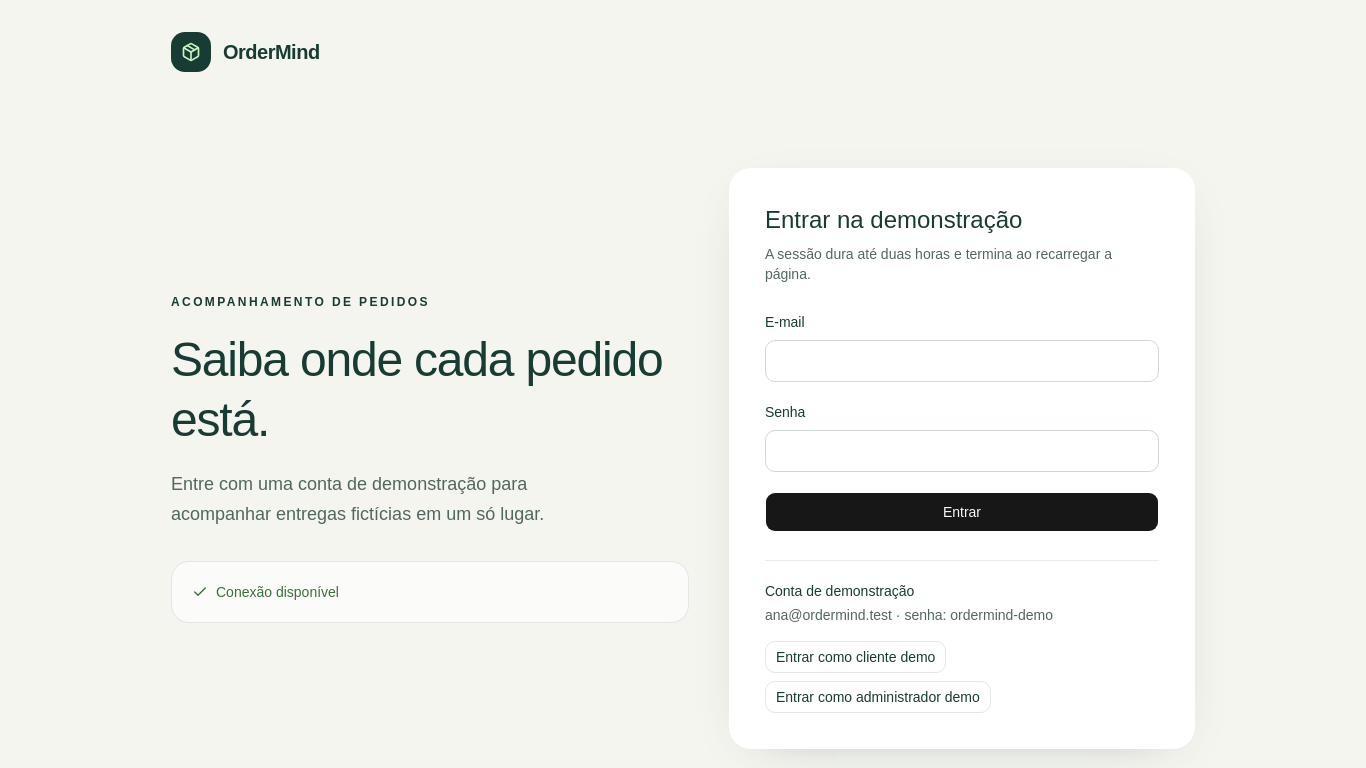
App › logs in through the customer demonstration action
This screenshot has width=1366, height=768.
Click the button "Entrar como cliente demo" at (856, 657), box [765,641,946,673]
(page scrolled)
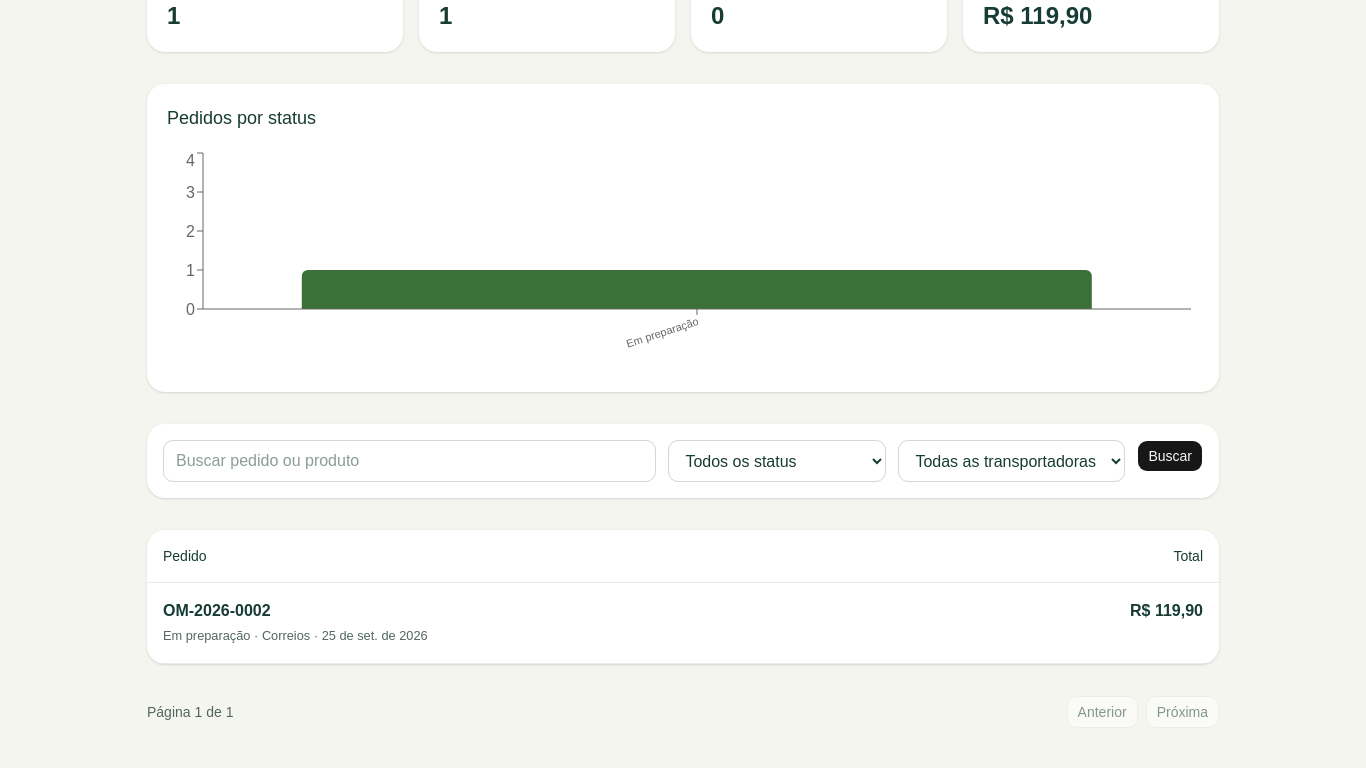
Now the text "OM-2026-0002" is shown, box [163,602,271,619]
